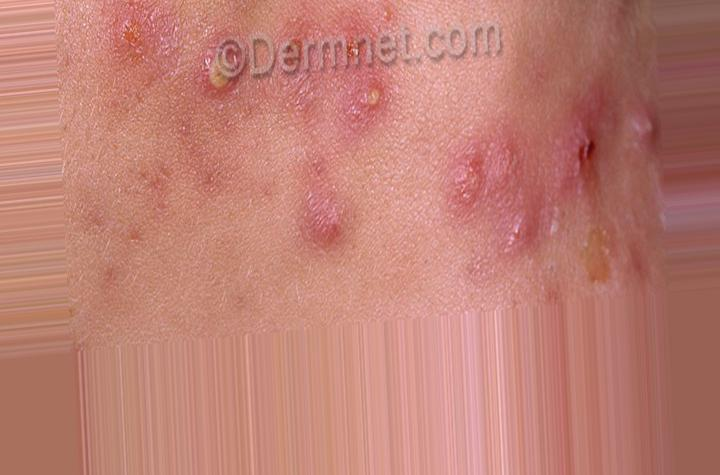Acne: (318, 199, 364, 262), (500, 206, 552, 261), (108, 16, 164, 61), (208, 48, 251, 106), (342, 79, 395, 126), (449, 150, 485, 215), (632, 99, 671, 155), (572, 122, 601, 194)
